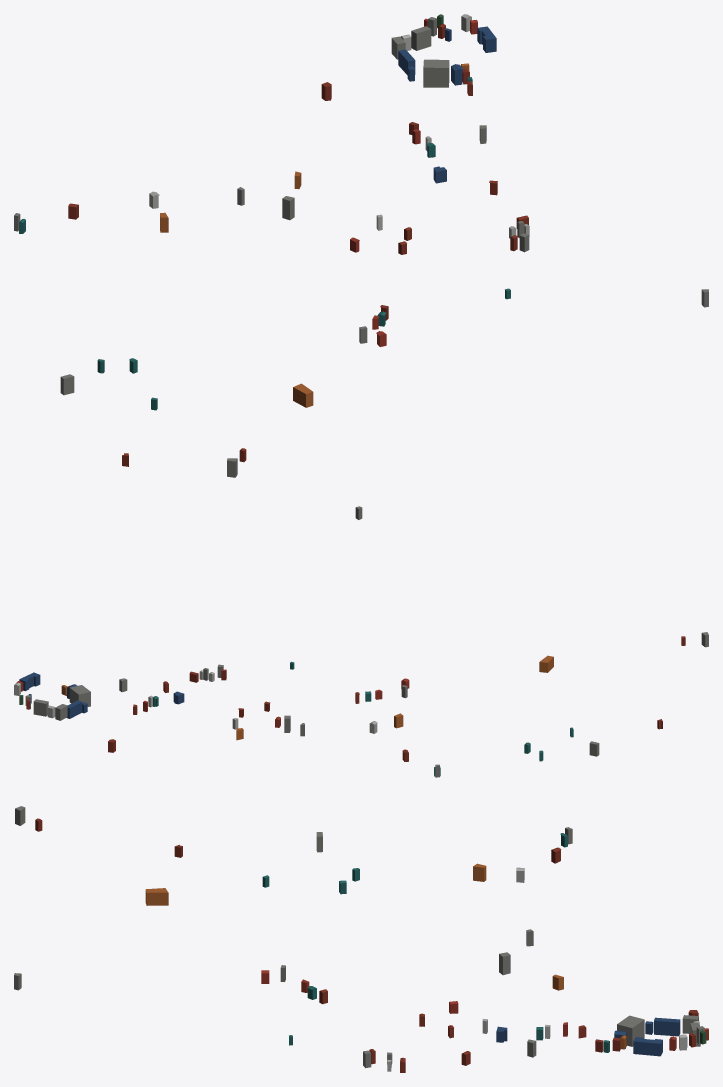
File: near-15-27362-14858.b5432c50.glb
3 views of the same model, one above another, from view 1: azimuth 30°, elevation 25°; view 2: azimuth 150°, elevation 25°; view 3: azimuth 270°, elevation 25° (orthographic). The views are drawn at different scales.
Bounding box in the file's own units: 988 × 178 × 1013.
